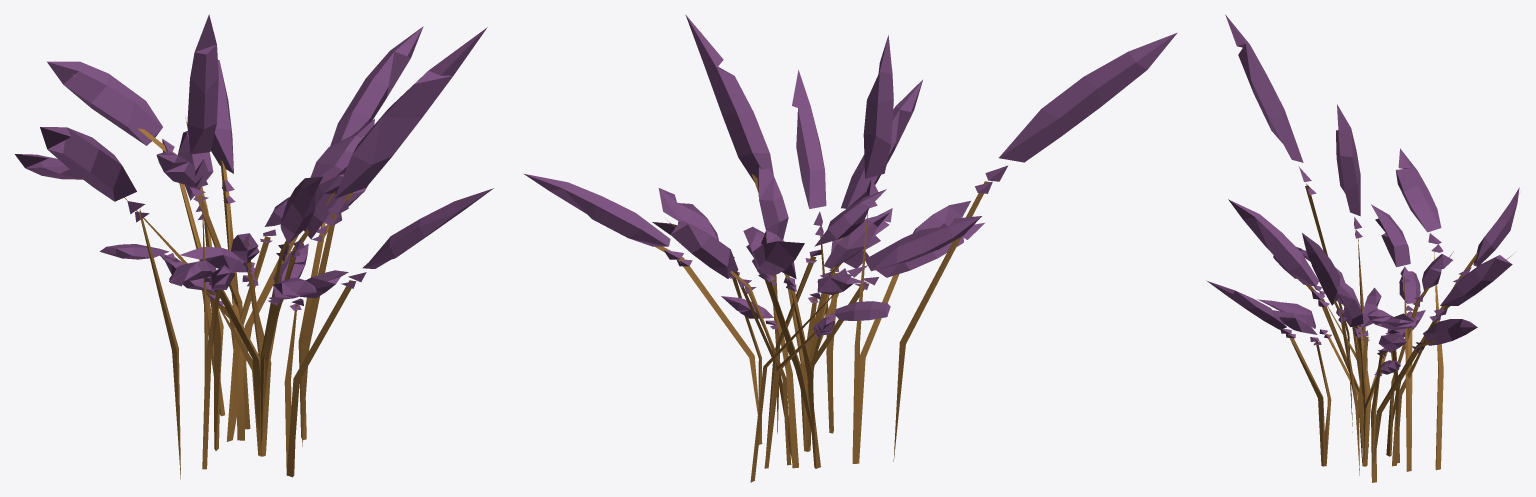
File: SM_Lavender_01.fbx
3 renders of one model, left to right at view 1: azimuth 30°, elevation 25°; view 2: azimuth 150°, elevation 25°; view 3: azimuth 270°, elevation 25°, orthographic. The views are drawn at different scales.
Visible parts, largest first — view 1: SM_Lavender_01; view 2: SM_Lavender_01; view 3: SM_Lavender_01.
Part boxes in pixels (x1,y1,x2,y2): SM_Lavender_01: [15, 14, 493, 479]; SM_Lavender_01: [523, 14, 1177, 482]; SM_Lavender_01: [1206, 14, 1519, 482].
Bounding box in the file's own units: 282 × 229 × 193.
